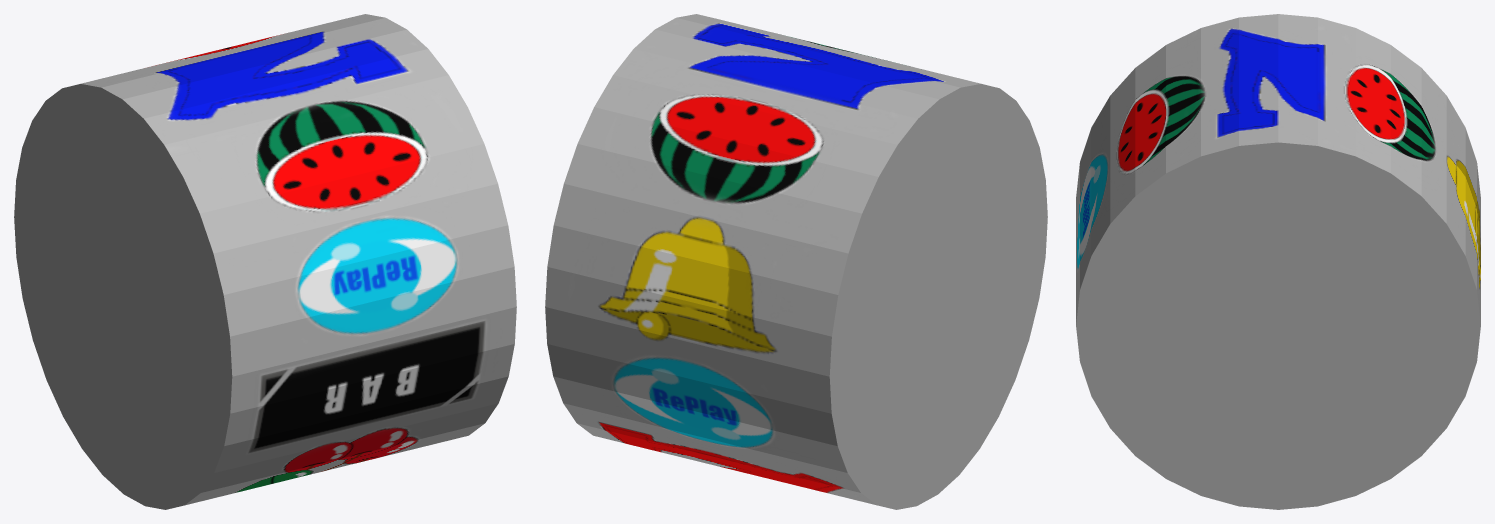
The model's file is Reel.obj.
3 views of the same model, side by side, from view 1: azimuth 30°, elevation 25°; view 2: azimuth 150°, elevation 25°; view 3: azimuth 270°, elevation 25° (orthographic). The views are drawn at different scales.
Parts seen in each view (by area): view 1: 円柱.001; view 2: 円柱.001; view 3: 円柱.001.
Boxes of the visible parts, x1=… form: 円柱.001: x1=14, y1=14, x2=516, y2=509; 円柱.001: x1=545, y1=14, x2=1047, y2=509; 円柱.001: x1=1076, y1=14, x2=1480, y2=509.
Bounding box in the file's own units: 4.02 × 5.31 × 5.31.
1 material, 1 textured.
